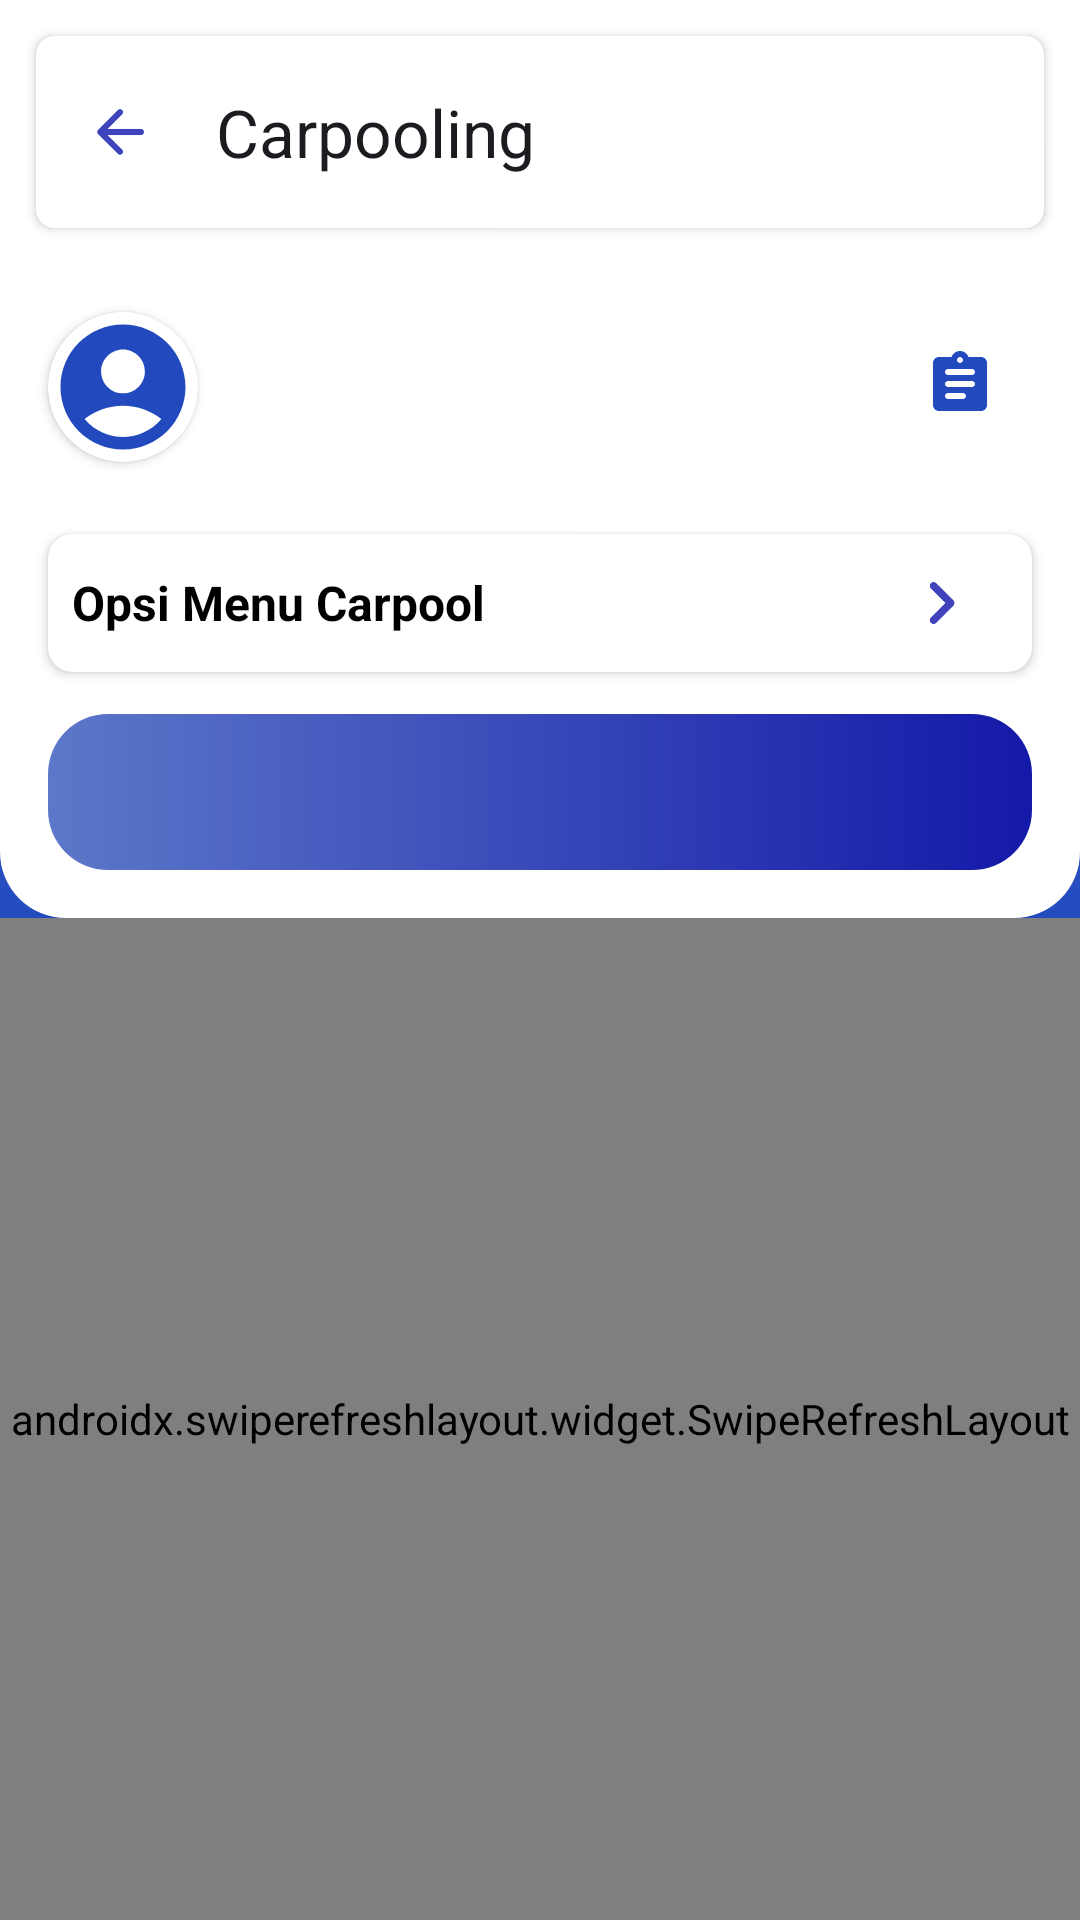

Locate icon controls on the screen. Image size 1080x1920, boxes as Rect(x1, y1, x2, y2).
account: Rect(48, 324, 186, 462)
history: Rect(933, 351, 987, 411)
next navigate: Rect(930, 582, 955, 624)
